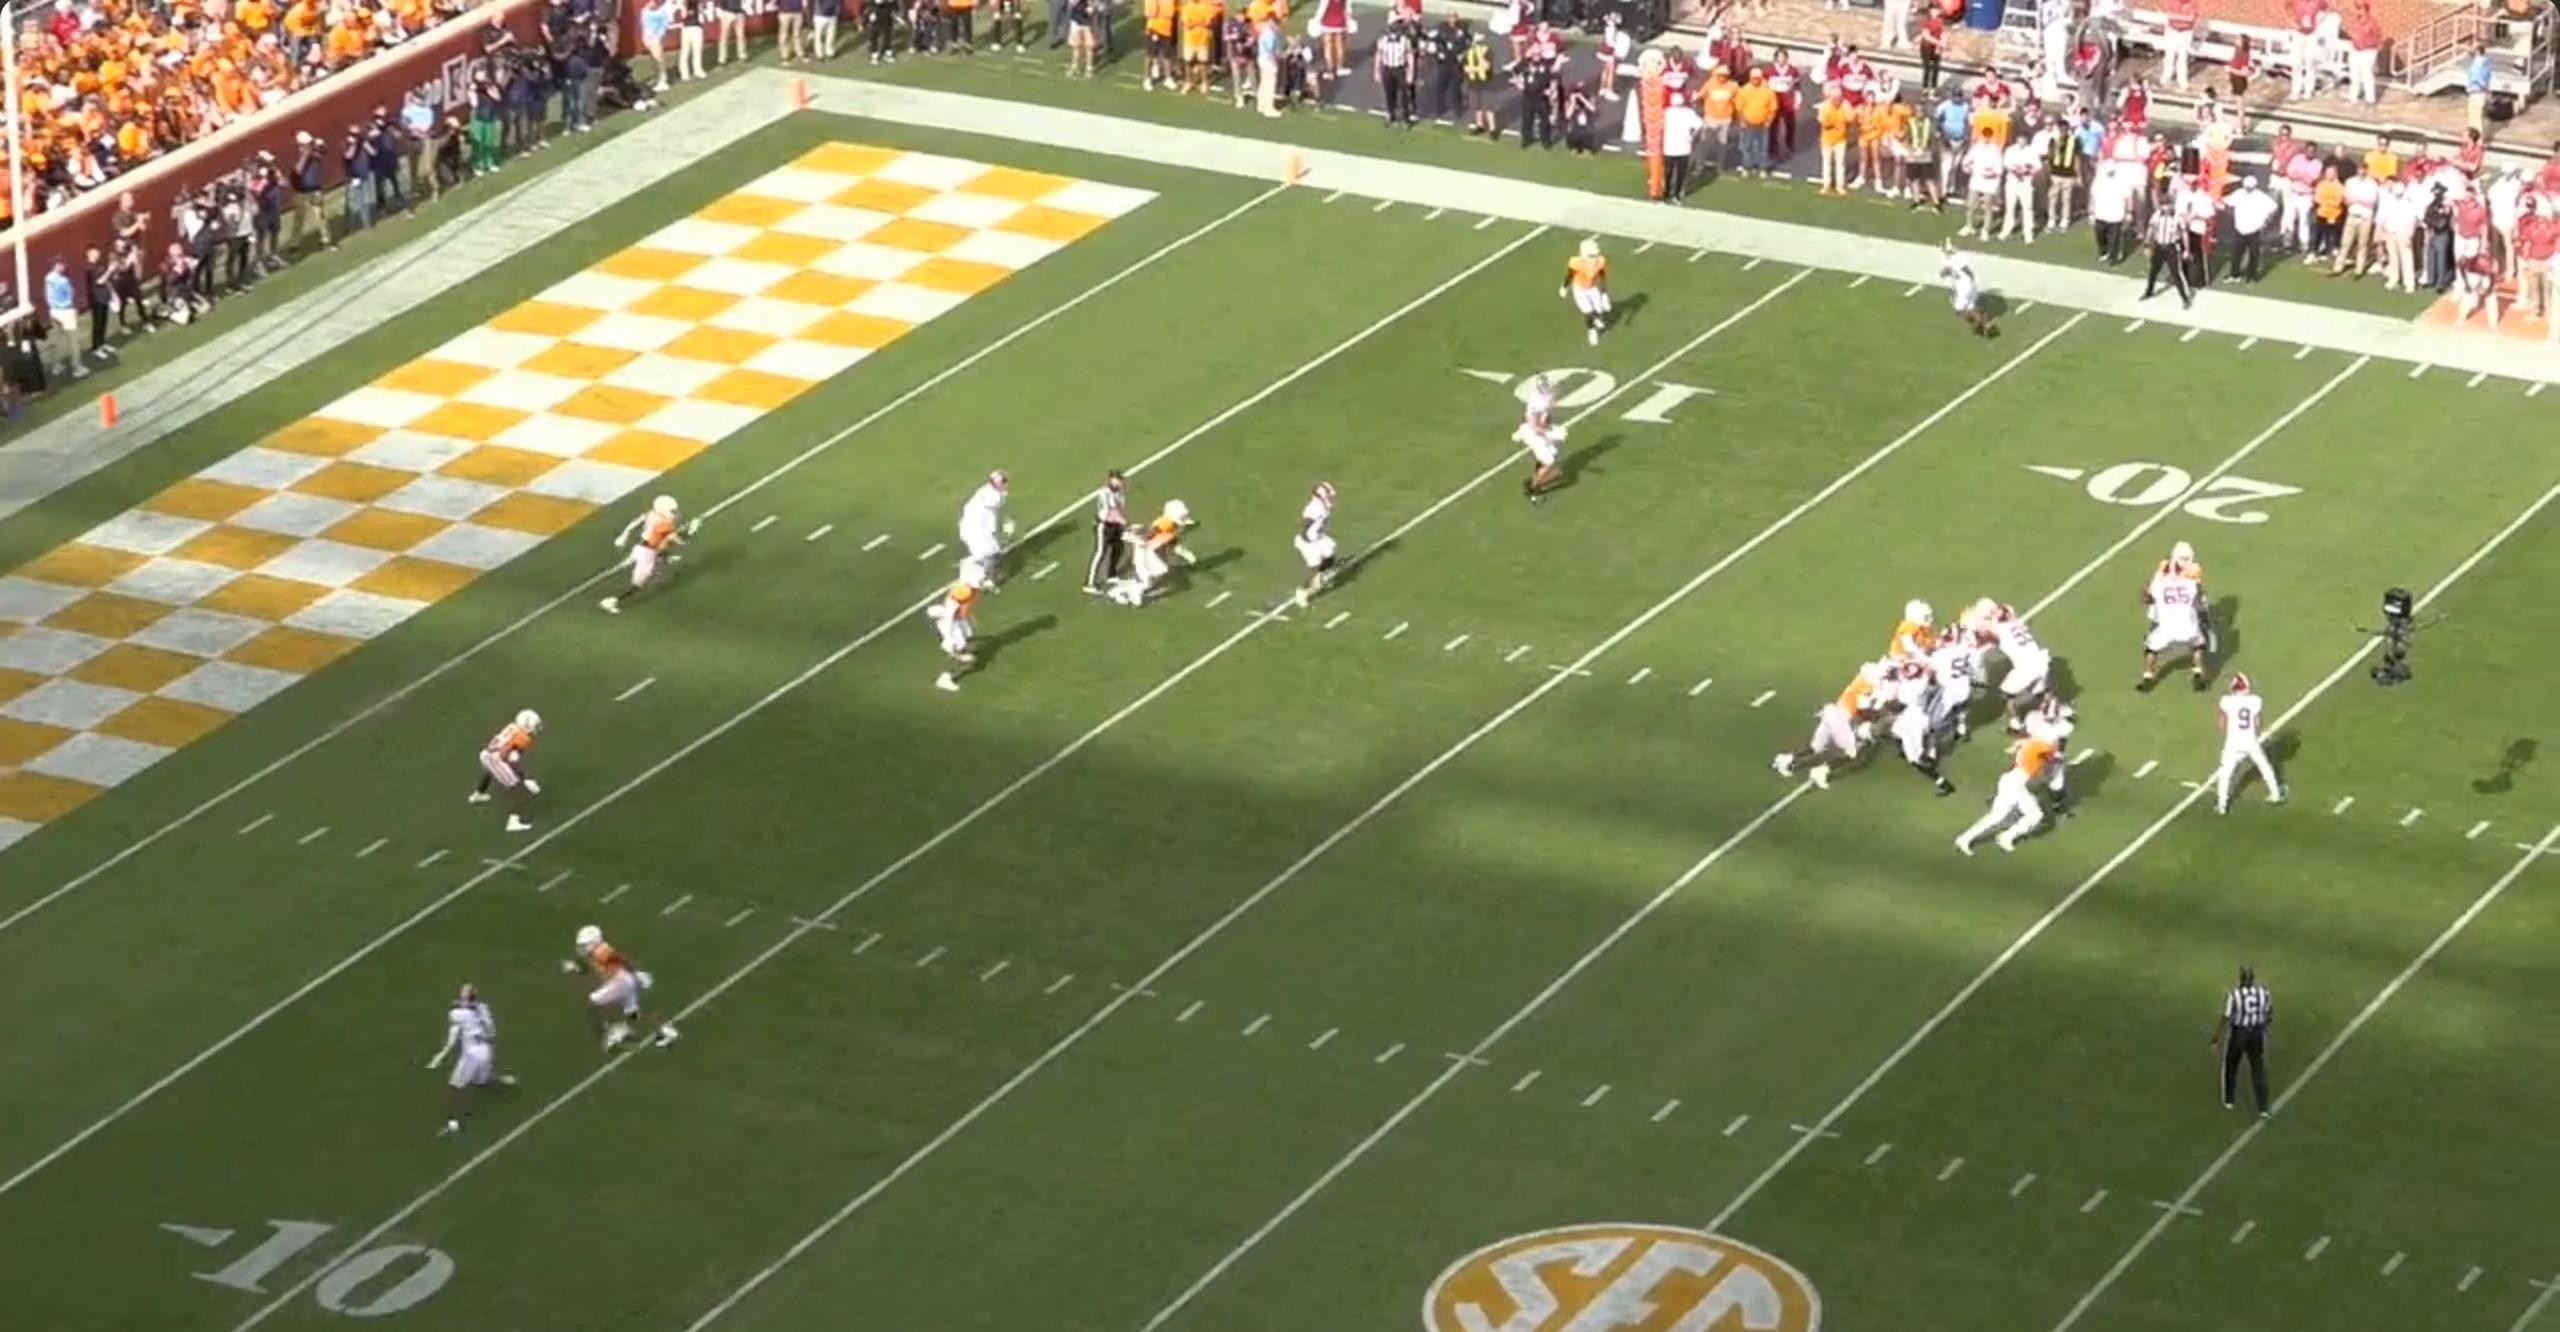defense: (1947, 726, 2096, 861), (557, 924, 681, 1065), (1774, 658, 1896, 790), (589, 491, 679, 616), (2137, 535, 2226, 657), (471, 707, 550, 834), (1123, 494, 1209, 606), (935, 565, 997, 694), (1559, 235, 1620, 350), (1878, 592, 1942, 682), (1949, 592, 2003, 696)
oline: (2132, 557, 2216, 692), (1874, 660, 1950, 801), (2008, 692, 2077, 824), (1979, 606, 2057, 713), (1930, 625, 1988, 750)
qb: (2211, 674, 2289, 821)
ref: (2216, 965, 2291, 1124), (2128, 191, 2194, 316), (1084, 471, 1141, 603)
skill: (418, 980, 505, 1142), (1500, 381, 1568, 511), (957, 472, 1021, 597), (1297, 482, 1356, 608), (1939, 244, 2003, 345)
